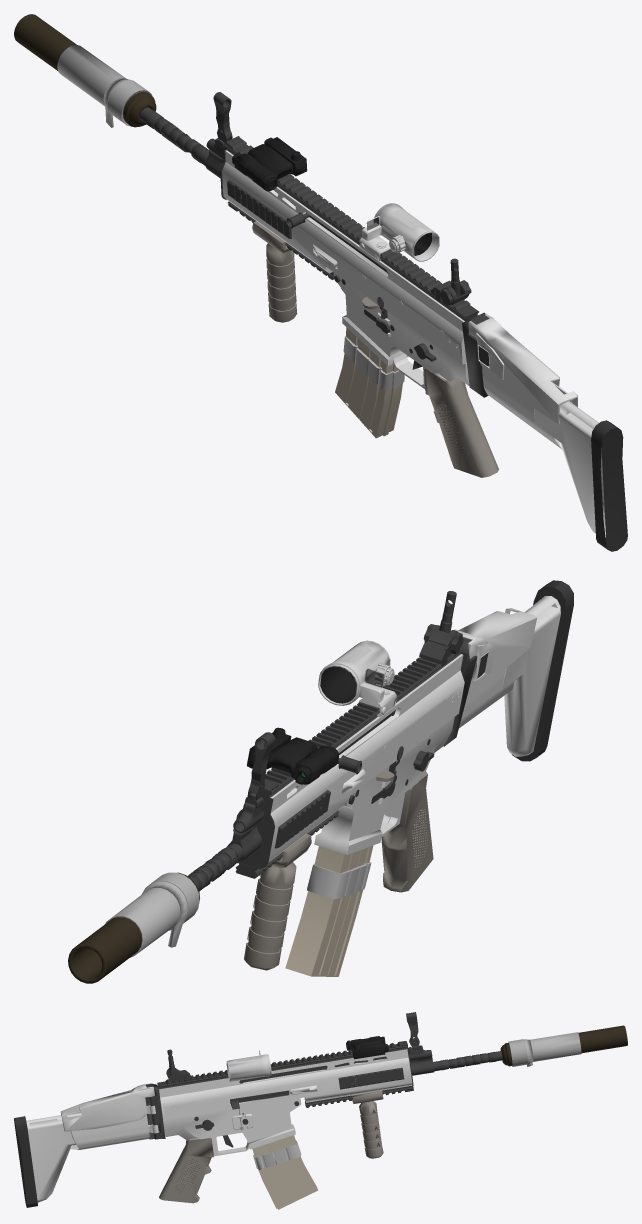
Rendered from weapon-bastion.glb.
The picture shows the model from 3 angles, top to bottom: view 1: azimuth 30°, elevation 25°; view 2: azimuth 150°, elevation 25°; view 3: azimuth 270°, elevation 25°; orthographic projection. The views are drawn at different scales.
Parts seen in each view (by area): view 1: part11, part8, part17, part13, mag_15, part5, part28, part19, part25, part6, part22; view 2: part11, part8, part17, mag_15, part5, part28, part25, part13, part19, part6, part26, part22; view 3: part11, part8, part17, mag_15, part5, part28, part13, part25, part19, part6.
Boxes of the visible parts, x1,y1,x2,y2 form: part11: [222, 150, 605, 537]; part8: [139, 92, 489, 397]; part17: [252, 221, 498, 477]; part13: [591, 420, 627, 551]; mag_15: [335, 327, 402, 438]; part5: [57, 45, 152, 127]; part28: [14, 14, 156, 127]; part19: [232, 137, 307, 191]; part25: [373, 203, 439, 261]; part6: [343, 336, 404, 390]; part22: [359, 216, 390, 260]; part11: [268, 596, 560, 861]; part8: [188, 591, 488, 891]; part17: [244, 769, 433, 970]; mag_15: [285, 845, 373, 976]; part5: [105, 872, 199, 957]; part28: [68, 872, 199, 983]; part25: [318, 640, 394, 705]; part13: [512, 580, 573, 761]; part19: [247, 727, 338, 784]; part6: [307, 862, 371, 899]; part26: [320, 666, 356, 703]; part22: [358, 668, 397, 716]; part11: [26, 1049, 412, 1202]; part8: [145, 1012, 502, 1147]; part17: [159, 1090, 383, 1203]; mag_15: [252, 1135, 318, 1209]; part5: [508, 1032, 581, 1066]; part28: [500, 1025, 627, 1066]; part13: [14, 1116, 37, 1207]; part25: [226, 1054, 271, 1081]; part19: [346, 1036, 388, 1059]; part6: [253, 1140, 301, 1169].
Size of what is drawn, in the model's own units: 2.35 by 4.25 by 13.26.
